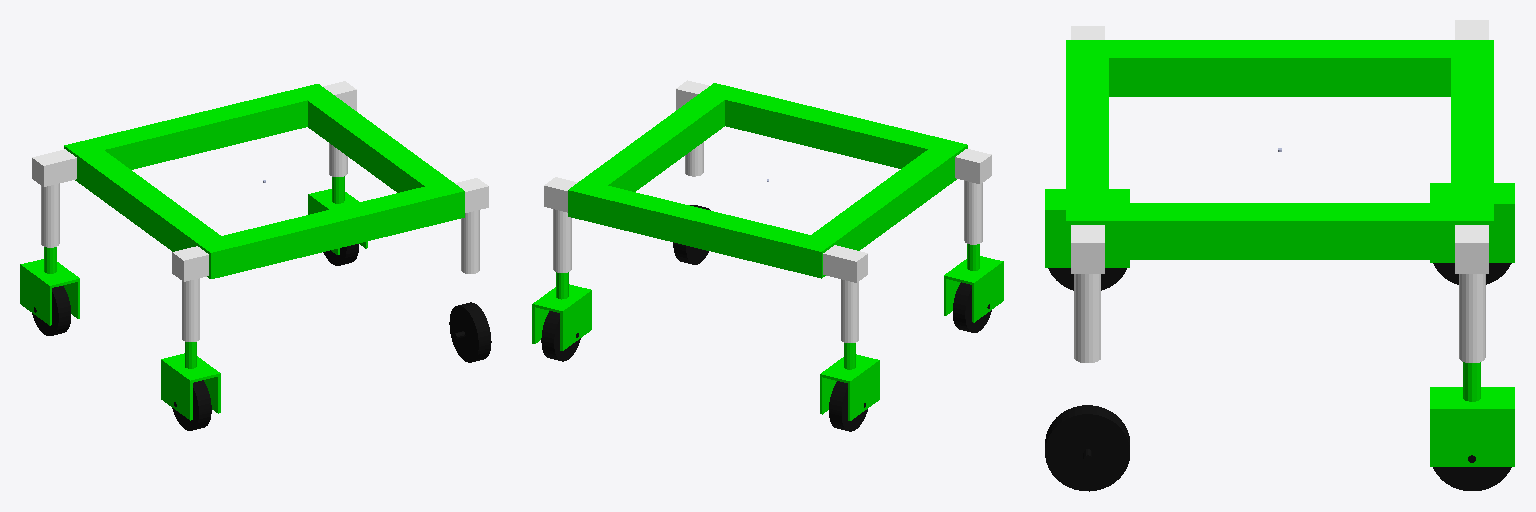
robot.urdf — modular_robot_description_2:
<?xml version="1.0" encoding="utf-8"?>
<!-- This URDF was automatically created by SolidWorks to URDF Exporter! Originally created by [author] ([email redacted]) 
     Commit Version: 1.6.0-4-g7f85cfe  Build Version: 1.6.7995.38578
     For more information, please see http://wiki.ros.org/sw_urdf_exporter -->
<robot
  name="modular_robot_description_2">
  <link
    name="base_link">
    <inertial>
      <origin
        xyz="1.11022302462516E-16 0.00657694398570483 -0.00114479574614862"
        rpy="0 0 0" />
      <mass
        value="0.000392699081698724" />
      <inertia
        ixx="3.27249234748937E-09"
        ixy="4.39758261498778E-57"
        ixz="-9.48598062533625E-42"
        iyy="3.27249234748937E-09"
        iyz="1.69119590752017E-25"
        izz="4.90873852123405E-09" />
    </inertial>
    <visual>
      <origin
        xyz="0 0 0"
        rpy="0 0 0" />
      <geometry>
        <mesh
          filename="package://modular_robot_description/meshes/visual/base_link.STL" />
      </geometry>
      <material
        name="">
        <color
          rgba="0.792156862745098 0.819607843137255 0.933333333333333 1" />
      </material>
    </visual>
    <collision>
      <origin
        xyz="0 0 0"
        rpy="0 0 0" />
      <geometry>
        <mesh
          filename="package://modular_robot_description/meshes/visual/base_link.STL" />
      </geometry>
    </collision>
  </link>
  <link
    name="frame">
    <inertial>
      <origin
        xyz="-1.0322E-16 -3.7883E-16 4.3368E-19"
        rpy="0 0 0" />
      <mass
        value="23.2" />
      <inertia
        ixx="3.8765"
        ixy="-8.1456E-16"
        ixz="-1.0334E-16"
        iyy="2.3443"
        iyz="3.5216E-17"
        izz="6.1745" />
    </inertial>
    <visual>
      <origin
        xyz="0 0 0"
        rpy="0 0 0" />
      <geometry>
        <mesh
          filename="package://modular_robot_description/meshes/visual/frame.STL" />
      </geometry>
      <material
        name="">
        <color
          rgba="0 1 0 1" />
      </material>
    </visual>
    <collision>
      <origin
        xyz="0 0 0"
        rpy="0 0 0" />
      <geometry>
        <mesh
          filename="package://modular_robot_description/meshes/visual/frame.STL" />
      </geometry>
    </collision>
  </link>
  <joint
    name="frame_joint"
    type="fixed">
    <origin
      xyz="0 0.00657694398570483 -0.00114479574614862"
      rpy="0 0 -1.5707963267949" />
    <parent
      link="base_link" />
    <child
      link="frame" />
    <axis
      xyz="0 0 0" />
  </joint>
  <link
    name="fl_extending_arm">
    <inertial>
      <origin
        xyz="0 0.015196 0.31882"
        rpy="0 0 0" />
      <mass
        value="4.1526" />
      <inertia
        ixx="0.10727"
        ixy="1.2883E-19"
        ixz="-1.6853E-19"
        iyy="0.10304"
        iyz="0.00028951"
        izz="0.0085908" />
    </inertial>
    <visual>
      <origin
        xyz="0 0 0"
        rpy="0 0 0" />
      <geometry>
        <mesh
          filename="package://modular_robot_description/meshes/visual/fl_extending_arm.STL" />
      </geometry>
      <material
        name="">
        <color
          rgba="1 1 1 1" />
      </material>
    </visual>
    <collision>
      <origin
        xyz="0 0 0"
        rpy="0 0 0" />
      <geometry>
        <mesh
          filename="package://modular_robot_description/meshes/visual/fl_extending_arm.STL" />
      </geometry>
    </collision>
  </link>
  <joint
    name="fl_extending_arm_joint"
    type="prismatic">
    <origin
      xyz="0.45 0 0"
      rpy="-1.5708 0 0" />
    <parent
      link="frame" />
    <child
      link="fl_extending_arm" />
    <axis
      xyz="0 0 -1" />
    <limit
      lower="-0.4"
      upper="0"
      effort="0"
      velocity="0" />
  </joint>
  <link
    name="fl_elevating_arm">
    <inertial>
      <origin
        xyz="0 0 0"
        rpy="0 0 0" />
      <mass
        value="0.0003927" />
      <inertia
        ixx="3.2725E-09"
        ixy="-1.7424E-56"
        ixz="9.486E-42"
        iyy="3.2725E-09"
        iyz="-2.0019E-43"
        izz="4.9087E-09" />
    </inertial>
    <visual>
      <origin
        xyz="0 0 0"
        rpy="0 0 0" />
      <geometry>
        <mesh
          filename="package://modular_robot_description/meshes/visual/fl_elevating_arm.STL" />
      </geometry>
      <material
        name="">
        <color
          rgba="0.79216 0.81961 0.93333 1" />
      </material>
    </visual>
    <collision>
      <origin
        xyz="0 0 0"
        rpy="0 0 0" />
      <geometry>
        <mesh
          filename="package://modular_robot_description/meshes/visual/fl_elevating_arm.STL" />
      </geometry>
    </collision>
  </link>
  <joint
    name="fl_elevating_arm_joint"
    type="prismatic">
    <origin
      xyz="0 -0.018645 0.55"
      rpy="-1.5708 0 0" />
    <parent
      link="fl_extending_arm" />
    <child
      link="fl_elevating_arm" />
    <axis
      xyz="0 0 -1" />
    <limit
      lower="-0.3"
      upper="0"
      effort="0"
      velocity="0" />
  </joint>
  <link
    name="fl_steering_arm">
    <inertial>
      <origin
        xyz="0 0 0.35077"
        rpy="0 0 0" />
      <mass
        value="1.3754" />
      <inertia
        ixx="0.033778"
        ixy="-2.1923E-19"
        ixz="-2.3982E-18"
        iyy="0.034477"
        iyz="1.1899E-18"
        izz="0.0047687" />
    </inertial>
    <visual>
      <origin
        xyz="0 0 0"
        rpy="0 0 0" />
      <geometry>
        <mesh
          filename="package://modular_robot_description/meshes/visual/fl_steering_arm.STL" />
      </geometry>
      <material
        name="">
        <color
          rgba="0 1 0 1" />
      </material>
    </visual>
    <collision>
      <origin
        xyz="0 0 0"
        rpy="0 0 0" />
      <geometry>
        <mesh
          filename="package://modular_robot_description/meshes/visual/fl_steering_arm.STL" />
      </geometry>
    </collision>
  </link>
  <joint
    name="fl_steering_arm_joint"
    type="continuous">
    <origin
      xyz="0 0 0"
      rpy="0 0 0" />
    <parent
      link="fl_elevating_arm" />
    <child
      link="fl_steering_arm" />
    <axis
      xyz="0 0 1" />
  </joint>
  <link
    name="fl_wheel">
    <inertial>
      <origin
        xyz="0 0 -1.1102E-16"
        rpy="0 0 0" />
      <mass
        value="1.5928" />
      <inertia
        ixx="0.0042968"
        ixy="-2.0997E-39"
        ixz="-4.2352E-22"
        iyy="0.0042968"
        iyz="-7.6647E-36"
        izz="0.0078551" />
    </inertial>
    <visual>
      <origin
        xyz="0 0 0"
        rpy="0 0 0" />
      <geometry>
        <mesh
          filename="package://modular_robot_description/meshes/visual/fl_wheel.STL" />
      </geometry>
      <material
        name="">
        <color
          rgba="0.1 0.1 0.1 1" />
      </material>
    </visual>
    <collision>
      <origin
        xyz="0 0 0"
        rpy="0 0 0" />
      <geometry>
        <mesh
          filename="package://modular_robot_description/meshes/visual/fl_wheel.STL" />
      </geometry>
    </collision>
  </link>
  <joint
    name="fl_motor"
    type="continuous">
    <origin
      xyz="0 0 0.5325"
      rpy="1.5708 0 0" />
    <parent
      link="fl_steering_arm" />
    <child
      link="fl_wheel" />
    <axis
      xyz="0 0 -1" />
  </joint>
  <link
    name="fr_extending_arm">
    <inertial>
      <origin
        xyz="-4.7508E-09 -0.015196 0.31882"
        rpy="0 0 0" />
      <mass
        value="4.1526" />
      <inertia
        ixx="0.10727"
        ixy="4.314E-12"
        ixz="1.4704E-09"
        iyy="0.10304"
        iyz="-0.00028951"
        izz="0.0085908" />
    </inertial>
    <visual>
      <origin
        xyz="0 0 0"
        rpy="0 0 0" />
      <geometry>
        <mesh
          filename="package://modular_robot_description/meshes/visual/fr_extending_arm.STL" />
      </geometry>
      <material
        name="">
        <color
          rgba="1 1 1 1" />
      </material>
    </visual>
    <collision>
      <origin
        xyz="0 0 0"
        rpy="0 0 0" />
      <geometry>
        <mesh
          filename="package://modular_robot_description/meshes/visual/fr_extending_arm.STL" />
      </geometry>
    </collision>
  </link>
  <joint
    name="fr_extending_arm_joint"
    type="prismatic">
    <origin
      xyz="0.45 0 0"
      rpy="1.5708 0 0" />
    <parent
      link="frame" />
    <child
      link="fr_extending_arm" />
    <axis
      xyz="0 0 1" />
    <limit
      lower="0"
      upper="0.4"
      effort="0"
      velocity="0" />
  </joint>
  <link
    name="fr_elevating_arm">
    <inertial>
      <origin
        xyz="0 0 -3.4694E-18"
        rpy="0 0 0" />
      <mass
        value="0.0003927" />
      <inertia
        ixx="3.2725E-09"
        ixy="-4.1575E-57"
        ixz="-9.2449E-42"
        iyy="3.2725E-09"
        iyz="-3.4142E-25"
        izz="4.9087E-09" />
    </inertial>
    <visual>
      <origin
        xyz="0 0 0"
        rpy="0 0 0" />
      <geometry>
        <mesh
          filename="package://modular_robot_description/meshes/visual/fr_elevating_arm.STL" />
      </geometry>
      <material
        name="">
        <color
          rgba="0.79216 0.81961 0.93333 1" />
      </material>
    </visual>
    <collision>
      <origin
        xyz="0 0 0"
        rpy="0 0 0" />
      <geometry>
        <mesh
          filename="package://modular_robot_description/meshes/visual/fr_elevating_arm.STL" />
      </geometry>
    </collision>
  </link>
  <joint
    name="fr_elevating_arm_joint"
    type="prismatic">
    <origin
      xyz="0 0.018645 0.55"
      rpy="1.5708 0 0" />
    <parent
      link="fr_extending_arm" />
    <child
      link="fr_elevating_arm" />
    <axis
      xyz="0 0 -1" />
    <limit
      lower="-0.3"
      upper="0"
      effort="0"
      velocity="0" />
  </joint>
  <link
    name="fr_steering_arm">
    <inertial>
      <origin
        xyz="0 0 0.35077"
        rpy="0 0 0" />
      <mass
        value="1.3754" />
      <inertia
        ixx="0.033778"
        ixy="-6.4514E-19"
        ixz="9.7764E-19"
        iyy="0.034477"
        iyz="5.5732E-18"
        izz="0.0047687" />
    </inertial>
    <visual>
      <origin
        xyz="0 0 0"
        rpy="0 0 0" />
      <geometry>
        <mesh
          filename="package://modular_robot_description/meshes/visual/fr_steering_arm.STL" />
      </geometry>
      <material
        name="">
        <color
          rgba="0 1 0 1" />
      </material>
    </visual>
    <collision>
      <origin
        xyz="0 0 0"
        rpy="0 0 0" />
      <geometry>
        <mesh
          filename="package://modular_robot_description/meshes/visual/fr_steering_arm.STL" />
      </geometry>
    </collision>
  </link>
  <joint
    name="fr_steering_arm_joint"
    type="continuous">
    <origin
      xyz="0 0 0"
      rpy="0 0 0" />
    <parent
      link="fr_elevating_arm" />
    <child
      link="fr_steering_arm" />
    <axis
      xyz="0 0 1" />
  </joint>
  <link
    name="fr_wheel">
    <inertial>
      <origin
        xyz="0 0 0"
        rpy="0 0 0" />
      <mass
        value="1.5928" />
      <inertia
        ixx="0.0042968"
        ixy="2.0997E-39"
        ixz="4.2352E-22"
        iyy="0.0042968"
        iyz="-7.6647E-36"
        izz="0.0078551" />
    </inertial>
    <visual>
      <origin
        xyz="0 0 0"
        rpy="0 0 0" />
      <geometry>
        <mesh
          filename="package://modular_robot_description/meshes/visual/fr_wheel.STL" />
      </geometry>
      <material
        name="">
        <color
          rgba="0.1 0.1 0.1 1" />
      </material>
    </visual>
    <collision>
      <origin
        xyz="0 0 0"
        rpy="0 0 0" />
      <geometry>
        <mesh
          filename="package://modular_robot_description/meshes/visual/fr_wheel.STL" />
      </geometry>
    </collision>
  </link>
  <joint
    name="fr_motor"
    type="continuous">
    <origin
      xyz="0 0 0.5325"
      rpy="-1.5708 0 0" />
    <parent
      link="fr_steering_arm" />
    <child
      link="fr_wheel" />
    <axis
      xyz="0 0 1" />
  </joint>
  <link
    name="rr_extending_arm">
    <inertial>
      <origin
        xyz="0 -0.015196 0.31882"
        rpy="0 0 0" />
      <mass
        value="4.1526" />
      <inertia
        ixx="0.10727"
        ixy="-1.1172E-19"
        ixz="1.6853E-19"
        iyy="0.10304"
        iyz="-0.00028951"
        izz="0.0085908" />
    </inertial>
    <visual>
      <origin
        xyz="0 0 0"
        rpy="0 0 0" />
      <geometry>
        <mesh
          filename="package://modular_robot_description/meshes/visual/rr_extending_arm.STL" />
      </geometry>
      <material
        name="">
        <color
          rgba="1 1 1 1" />
      </material>
    </visual>
    <collision>
      <origin
        xyz="0 0 0"
        rpy="0 0 0" />
      <geometry>
        <mesh
          filename="package://modular_robot_description/meshes/visual/rr_extending_arm.STL" />
      </geometry>
    </collision>
  </link>
  <joint
    name="rr_extending_arm_joint"
    type="prismatic">
    <origin
      xyz="-0.45 -0.032017 0"
      rpy="1.5708 0 0" />
    <parent
      link="frame" />
    <child
      link="rr_extending_arm" />
    <axis
      xyz="0 0 1" />
    <limit
      lower="0"
      upper="0.4"
      effort="0"
      velocity="0" />
  </joint>
  <link
    name="rr_elevating_arm">
    <inertial>
      <origin
        xyz="0 0 0"
        rpy="0 0 0" />
      <mass
        value="0.0003927" />
      <inertia
        ixx="3.2725E-09"
        ixy="1.5306E-41"
        ixz="-1.2825E-41"
        iyy="3.2725E-09"
        iyz="-6.8932E-26"
        izz="4.9087E-09" />
    </inertial>
    <visual>
      <origin
        xyz="0 0 0"
        rpy="0 0 0" />
      <geometry>
        <mesh
          filename="package://modular_robot_description/meshes/visual/rr_elevating_arm.STL" />
      </geometry>
      <material
        name="">
        <color
          rgba="0.79216 0.81961 0.93333 1" />
      </material>
    </visual>
    <collision>
      <origin
        xyz="0 0 0"
        rpy="0 0 0" />
      <geometry>
        <mesh
          filename="package://modular_robot_description/meshes/visual/rr_elevating_arm.STL" />
      </geometry>
    </collision>
  </link>
  <joint
    name="rr_elevating_arm_joint"
    type="prismatic">
    <origin
      xyz="0 0.018645 0.55"
      rpy="1.5708 0 0" />
    <parent
      link="rr_extending_arm" />
    <child
      link="rr_elevating_arm" />
    <axis
      xyz="0 0 -1" />
    <limit
      lower="-0.3"
      upper="0"
      effort="0"
      velocity="0" />
  </joint>
  <link
    name="rr_steering_arm">
    <inertial>
      <origin
        xyz="0 0 0.35077"
        rpy="0 0 0" />
      <mass
        value="1.3754" />
      <inertia
        ixx="0.033778"
        ixy="-5.5396E-18"
        ixz="-6.5306E-18"
        iyy="0.034477"
        iyz="-5.4585E-18"
        izz="0.0047687" />
    </inertial>
    <visual>
      <origin
        xyz="0 0 0"
        rpy="0 0 0" />
      <geometry>
        <mesh
          filename="package://modular_robot_description/meshes/visual/rr_steering_arm.STL" />
      </geometry>
      <material
        name="">
        <color
          rgba="0 1 0 1" />
      </material>
    </visual>
    <collision>
      <origin
        xyz="0 0 0"
        rpy="0 0 0" />
      <geometry>
        <mesh
          filename="package://modular_robot_description/meshes/visual/rr_steering_arm.STL" />
      </geometry>
    </collision>
  </link>
  <joint
    name="rr_steering_arm_joint"
    type="continuous">
    <origin
      xyz="0 0 0"
      rpy="0 0 0" />
    <parent
      link="rr_elevating_arm" />
    <child
      link="rr_steering_arm" />
    <axis
      xyz="0 0 1" />
  </joint>
  <link
    name="rr_wheel">
    <inertial>
      <origin
        xyz="0 0 -1.1102E-16"
        rpy="0 0 0" />
      <mass
        value="1.5928" />
      <inertia
        ixx="0.0042968"
        ixy="-2.0997E-39"
        ixz="1.6522E-19"
        iyy="0.0042968"
        iyz="7.6647E-36"
        izz="0.0078551" />
    </inertial>
    <visual>
      <origin
        xyz="0 0 0"
        rpy="0 0 0" />
      <geometry>
        <mesh
          filename="package://modular_robot_description/meshes/visual/rr_wheel.STL" />
      </geometry>
      <material
        name="">
        <color
          rgba="0.1 0.1 0.1 1" />
      </material>
    </visual>
    <collision>
      <origin
        xyz="0 0 0"
        rpy="0 0 0" />
      <geometry>
        <mesh
          filename="package://modular_robot_description/meshes/visual/rr_wheel.STL" />
      </geometry>
    </collision>
  </link>
  <joint
    name="rr_motor"
    type="continuous">
    <origin
      xyz="0 0 0.5325"
      rpy="-1.5708 0 0" />
    <parent
      link="rr_steering_arm" />
    <child
      link="rr_wheel" />
    <axis
      xyz="0 0 -1" />
  </joint>
  <link
    name="rl_extending_arm">
    <inertial>
      <origin
        xyz="0 0.015196 0.31882"
        rpy="0 0 0" />
      <mass
        value="4.1526" />
      <inertia
        ixx="0.10727"
        ixy="1.2883E-19"
        ixz="-1.6853E-19"
        iyy="0.10304"
        iyz="0.00028951"
        izz="0.0085908" />
    </inertial>
    <visual>
      <origin
        xyz="0 0 0"
        rpy="0 0 0" />
      <geometry>
        <mesh
          filename="package://modular_robot_description/meshes/visual/rl_extending_arm.STL" />
      </geometry>
      <material
        name="">
        <color
          rgba="1 1 1 1" />
      </material>
    </visual>
    <collision>
      <origin
        xyz="0 0 0"
        rpy="0 0 0" />
      <geometry>
        <mesh
          filename="package://modular_robot_description/meshes/visual/rl_extending_arm.STL" />
      </geometry>
    </collision>
  </link>
  <joint
    name="rl_extending_arm_joint"
    type="prismatic">
    <origin
      xyz="-0.45 0 0"
      rpy="-1.5708 0 0" />
    <parent
      link="frame" />
    <child
      link="rl_extending_arm" />
    <axis
      xyz="0 0 -1" />
    <limit
      lower="-0.4"
      upper="0"
      effort="0"
      velocity="0" />
  </joint>
  <link
    name="rl_elevating_arm">
    <inertial>
      <origin
        xyz="0 0 0"
        rpy="0 0 0" />
      <mass
        value="0.0003927" />
      <inertia
        ixx="3.2725E-09"
        ixy="7.653E-42"
        ixz="1.2825E-41"
        iyy="3.2725E-09"
        iyz="6.8932E-26"
        izz="4.9087E-09" />
    </inertial>
    <visual>
      <origin
        xyz="0 0 0"
        rpy="0 0 0" />
      <geometry>
        <mesh
          filename="package://modular_robot_description/meshes/visual/rl_elevating_arm.STL" />
      </geometry>
      <material
        name="">
        <color
          rgba="0.79216 0.81961 0.93333 1" />
      </material>
    </visual>
    <collision>
      <origin
        xyz="0 0 0"
        rpy="0 0 0" />
      <geometry>
        <mesh
          filename="package://modular_robot_description/meshes/visual/rl_elevating_arm.STL" />
      </geometry>
    </collision>
  </link>
  <joint
    name="rl_elevating_arm_joint"
    type="prismatic">
    <origin
      xyz="0 -0.018645 0.55"
      rpy="-1.5708 0 0" />
    <parent
      link="rl_extending_arm" />
    <child
      link="rl_elevating_arm" />
    <axis
      xyz="0 0 -1" />
    <limit
      lower="-0.3"
      upper="0"
      effort="0"
      velocity="0" />
  </joint>
  <link
    name="rl_steering_arm">
    <inertial>
      <origin
        xyz="0 0 0.35077"
        rpy="0 0 0" />
      <mass
        value="1.3754" />
      <inertia
        ixx="0.033778"
        ixy="-4.6691E-19"
        ixz="4.5013E-18"
        iyy="0.034477"
        iyz="-6.9143E-18"
        izz="0.0047687" />
    </inertial>
    <visual>
      <origin
        xyz="0 0 0"
        rpy="0 0 0" />
      <geometry>
        <mesh
          filename="package://modular_robot_description/meshes/visual/rl_steering_arm.STL" />
      </geometry>
      <material
        name="">
        <color
          rgba="0 1 0 1" />
      </material>
    </visual>
    <collision>
      <origin
        xyz="0 0 0"
        rpy="0 0 0" />
      <geometry>
        <mesh
          filename="package://modular_robot_description/meshes/visual/rl_steering_arm.STL" />
      </geometry>
    </collision>
  </link>
  <joint
    name="rl_steering_arm_joint"
    type="continuous">
    <origin
      xyz="0 0 0"
      rpy="0 0 0" />
    <parent
      link="rl_elevating_arm" />
    <child
      link="rl_steering_arm" />
    <axis
      xyz="0 0 1" />
  </joint>
  <link
    name="rl_wheel">
    <inertial>
      <origin
        xyz="0 0 0"
        rpy="0 0 0" />
      <mass
        value="1.5928" />
      <inertia
        ixx="0.0042968"
        ixy="-2.0997E-39"
        ixz="-4.2352E-22"
        iyy="0.0042968"
        iyz="-7.6647E-36"
        izz="0.0078551" />
    </inertial>
    <visual>
      <origin
        xyz="0 0 0"
        rpy="0 0 0" />
      <geometry>
        <mesh
          filename="package://modular_robot_description/meshes/visual/rl_wheel.STL" />
      </geometry>
      <material
        name="">
        <color
          rgba="0.1 0.1 0.1 1" />
      </material>
    </visual>
    <collision>
      <origin
        xyz="0 0 0"
        rpy="0 0 0" />
      <geometry>
        <mesh
          filename="package://modular_robot_description/meshes/visual/rl_wheel.STL" />
      </geometry>
    </collision>
  </link>
  <joint
    name="rl_motor"
    type="continuous">
    <origin
      xyz="0 0 0.5325"
      rpy="1.5708 0 0" />
    <parent
      link="rl_steering_arm" />
    <child
      link="rl_wheel" />
    <axis
      xyz="0 0 -1" />
  </joint>
</robot>

--- Render facts (derived) ---
Views: 3 orthographic renders of the robot side by side, from view 1: azimuth 30°, elevation 25°; view 2: azimuth 150°, elevation 25°; view 3: azimuth 270°, elevation 25°.
Robot: modular_robot_description_2 — 18 links, 17 joints (8 continuous, 8 prismatic, 1 fixed); root link base_link; default pose: all joints at 0.
Visible links, largest first — view 1: frame, fr_steering_arm, rr_steering_arm, rr_extending_arm, fr_extending_arm, fl_wheel, fl_extending_arm, rl_steering_arm, rr_wheel, rl_extending_arm, fr_wheel; view 2: frame, rl_steering_arm, fr_steering_arm, rr_steering_arm, rr_extending_arm, fr_extending_arm, rl_extending_arm, fr_wheel, fl_extending_arm, rr_wheel, rl_wheel, fl_wheel; view 3: frame, rl_steering_arm, fl_wheel, fl_extending_arm, rl_extending_arm, fr_steering_arm, rr_steering_arm, rl_wheel, fr_wheel, rr_extending_arm, rr_wheel.
Boxes of the visible links, x1,y1,x2,y2 form: frame: [64, 84, 464, 278]; fr_steering_arm: [161, 342, 220, 420]; rr_steering_arm: [20, 247, 79, 325]; rr_extending_arm: [32, 149, 76, 247]; fr_extending_arm: [172, 246, 208, 341]; fl_wheel: [449, 302, 491, 362]; fl_extending_arm: [455, 178, 488, 273]; rl_steering_arm: [308, 176, 367, 254]; rr_wheel: [32, 286, 70, 335]; rl_extending_arm: [323, 81, 356, 176]; fr_wheel: [172, 380, 211, 430]; frame: [568, 83, 967, 278]; rl_steering_arm: [532, 272, 591, 350]; fr_steering_arm: [944, 244, 1003, 322]; rr_steering_arm: [820, 343, 879, 420]; rr_extending_arm: [823, 245, 867, 342]; fr_extending_arm: [955, 149, 991, 244]; rl_extending_arm: [544, 177, 577, 272]; fr_wheel: [953, 282, 991, 332]; fl_extending_arm: [676, 80, 708, 176]; rr_wheel: [829, 381, 867, 431]; rl_wheel: [541, 311, 580, 361]; fl_wheel: [673, 205, 710, 264]; frame: [1066, 40, 1493, 259]; rl_steering_arm: [1430, 362, 1514, 466]; fl_wheel: [1045, 405, 1129, 491]; fl_extending_arm: [1071, 225, 1104, 362]; rl_extending_arm: [1455, 225, 1488, 362]; fr_steering_arm: [1045, 189, 1129, 267]; rr_steering_arm: [1430, 183, 1514, 262]; rl_wheel: [1433, 455, 1511, 490]; fr_wheel: [1048, 268, 1126, 290]; rr_extending_arm: [1455, 20, 1488, 39]; rr_wheel: [1433, 263, 1511, 284].
Size in the robot's own frame: 1.25 by 1.1 by 0.6638 metres.
17 mesh visuals loaded from 18 distinct referenced files (17 binary STL); not drawn: 1 (reference not matched to a file when rendering).